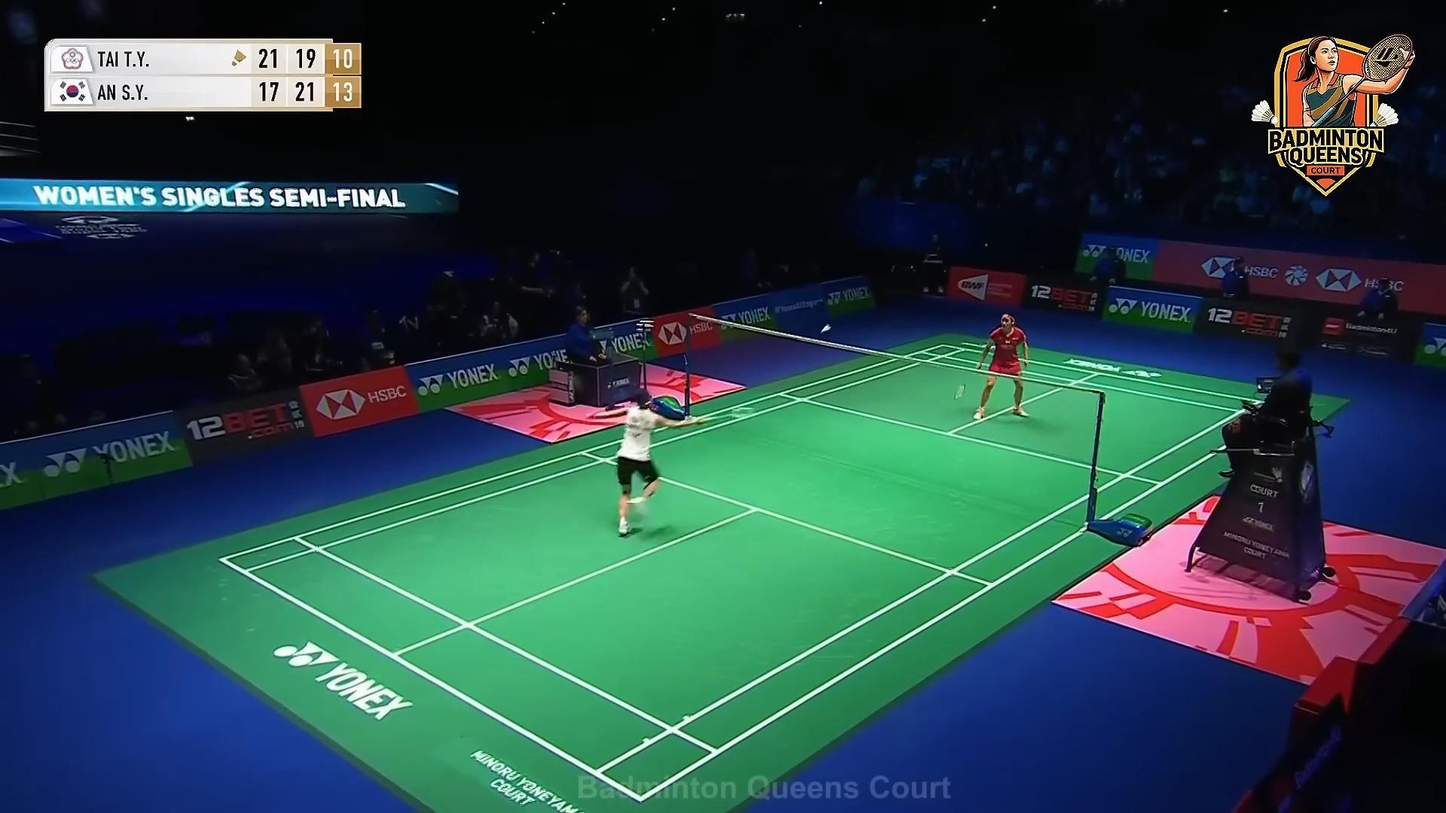shuttlecock: (820, 324, 831, 334)
